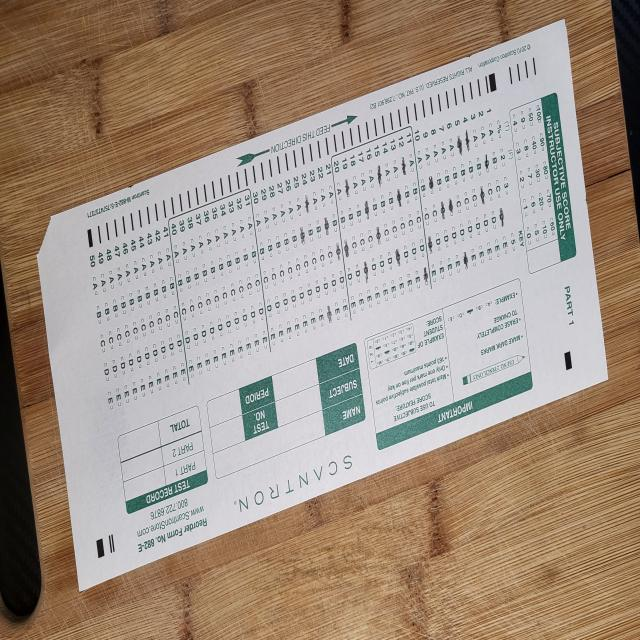scantron: (36, 18, 608, 593)
